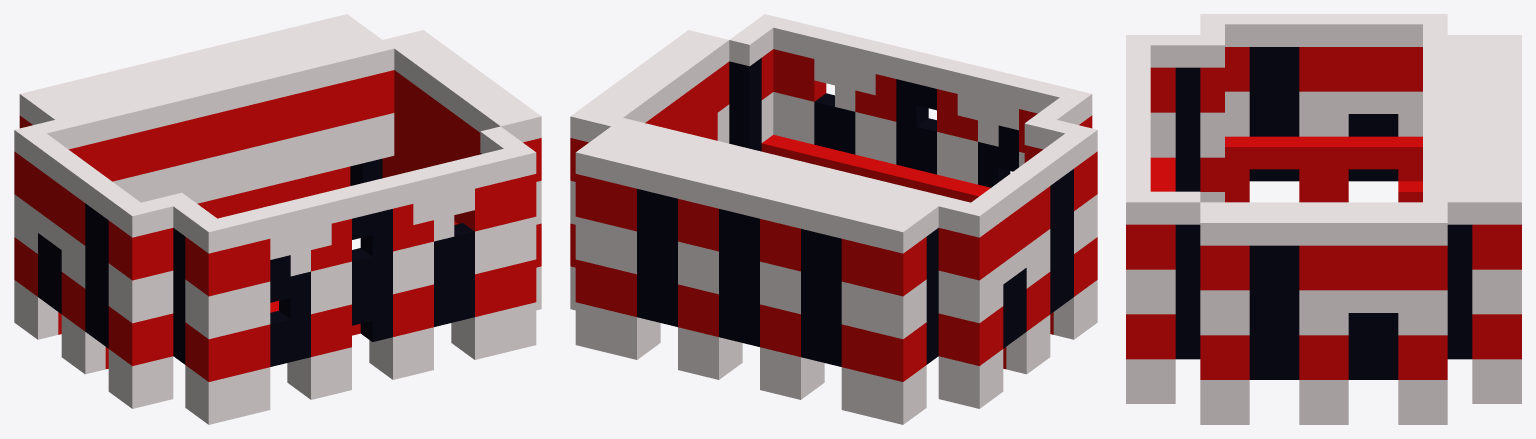
3 renders of one model, left to right at view 1: azimuth 30°, elevation 25°; view 2: azimuth 150°, elevation 25°; view 3: azimuth 270°, elevation 25°, orthographic. The views are drawn at different scales.
Parts seen in each view (by area): view 1: 15; view 2: 15; view 3: 15.
Part boxes in pixels (left/top/right/bottom): 15: left=14, top=14, right=541, bottom=424; 15: left=570, top=14, right=1097, bottom=424; 15: left=1126, top=14, right=1521, bottom=424.
Size of the model in its own units: 200 by 90 by 160.
Materials: 1 (1 with a texture image).
